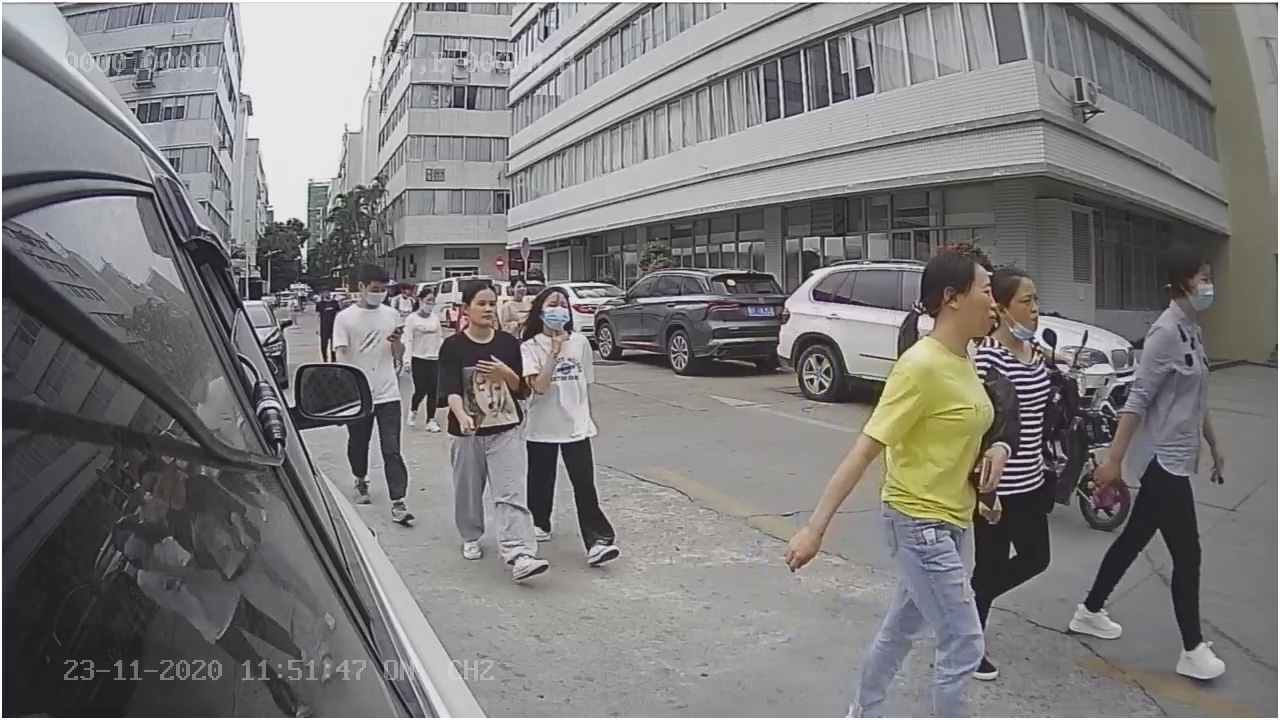person: (1068, 243, 1232, 675), (433, 280, 550, 582)
